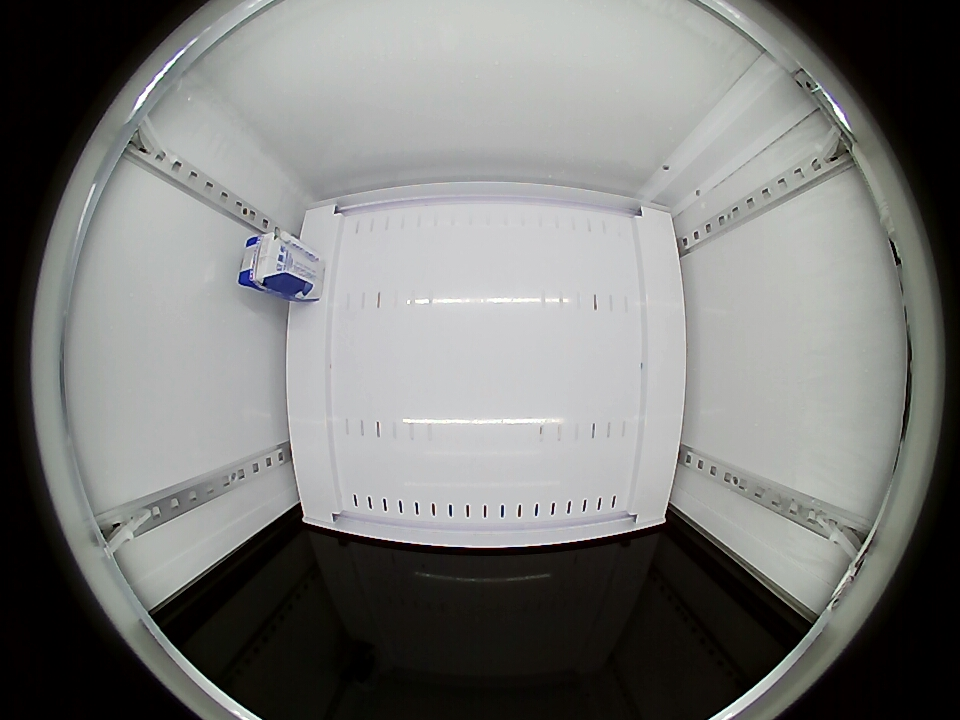anmuxi: (239, 230, 291, 291)
